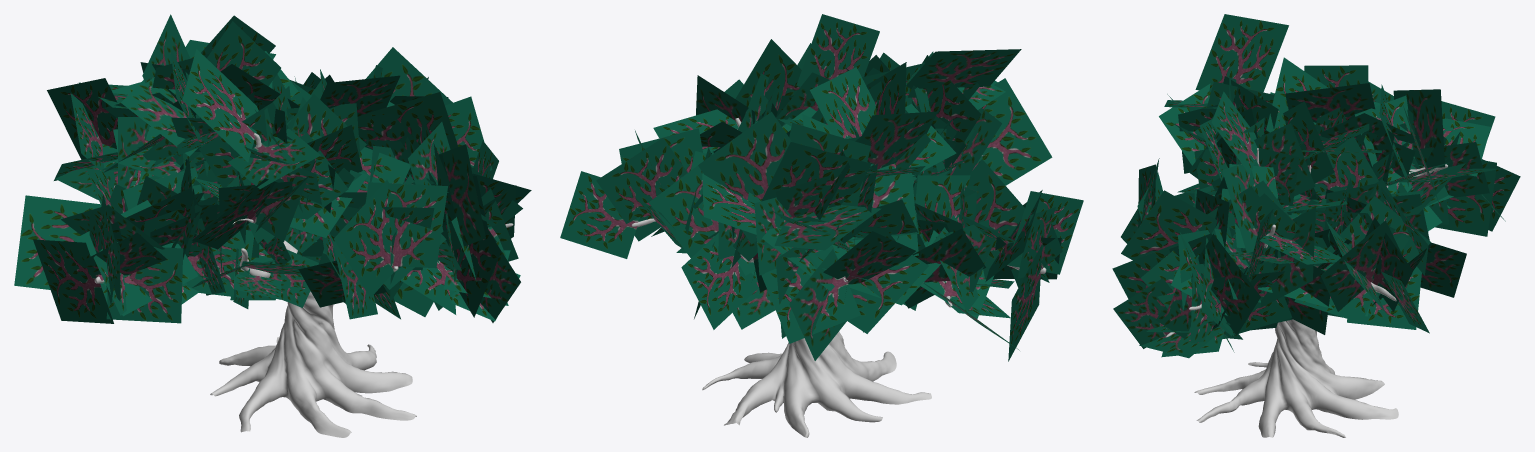
File: grosArbreV03.fbx
3 views of the same model, side by side, from view 1: azimuth 30°, elevation 25°; view 2: azimuth 150°, elevation 25°; view 3: azimuth 270°, elevation 25° (orthographic). The views are drawn at different scales.
Visible parts, largest first — view 1: arbre_LOD0; view 2: arbre_LOD0; view 3: arbre_LOD0.
Boxes of the visible parts, x1=… form: arbre_LOD0: x1=14, y1=14, x2=531, y2=437; arbre_LOD0: x1=560, y1=14, x2=1083, y2=437; arbre_LOD0: x1=1112, y1=14, x2=1520, y2=437.
Size of what is drawn, in the model's own units: 1500 by 1229 by 1386.
